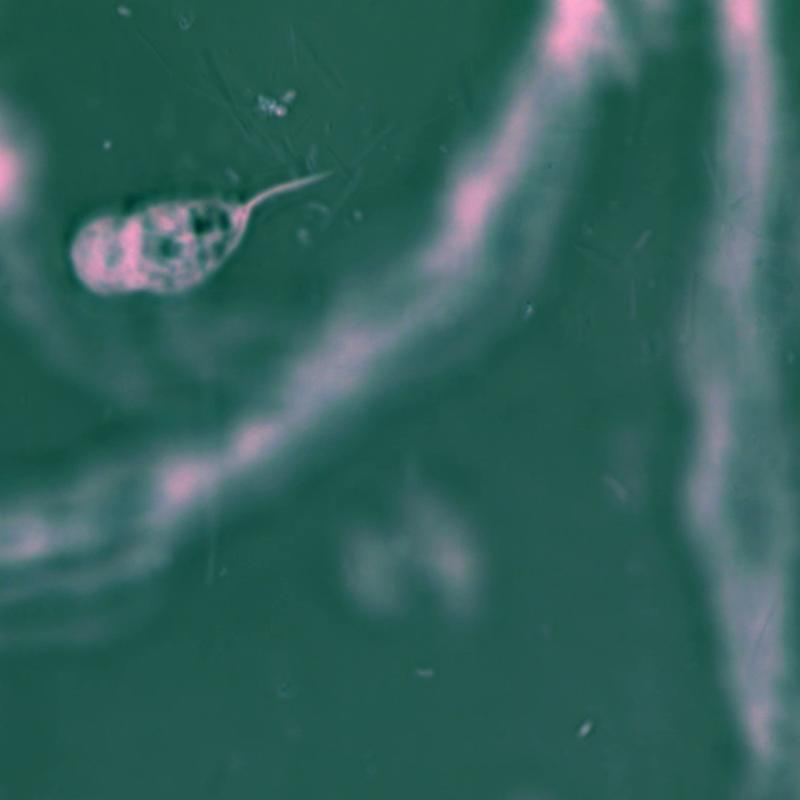depth:60: (40, 146, 419, 334)
